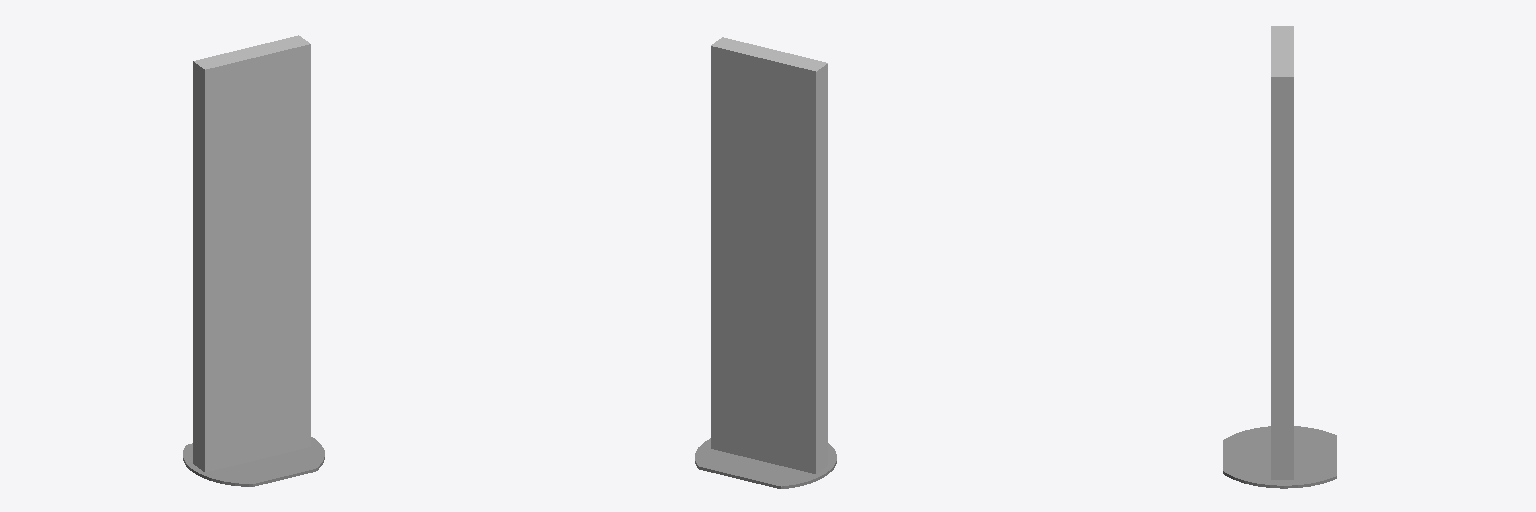
File: col.obj
3 renders of one model, left to right at view 1: azimuth 30°, elevation 25°; view 2: azimuth 150°, elevation 25°; view 3: azimuth 270°, elevation 25°, orthographic.
Visible parts, largest first — view 1: Cube_Cube.001, Cylinder.002; view 2: Cube_Cube.001, Cylinder.002; view 3: Cube_Cube.001, Cylinder.002.
Part boxes in pixels (x1,y1,x2,y2): Cube_Cube.001: (193,35,310,472); Cylinder.002: (183,437,324,486); Cube_Cube.001: (711,37,827,474); Cylinder.002: (695,438,836,488); Cube_Cube.001: (1271,26,1293,479); Cylinder.002: (1223,426,1336,488).
Size of the model in its own units: 0.6356 by 2 by 0.5071.